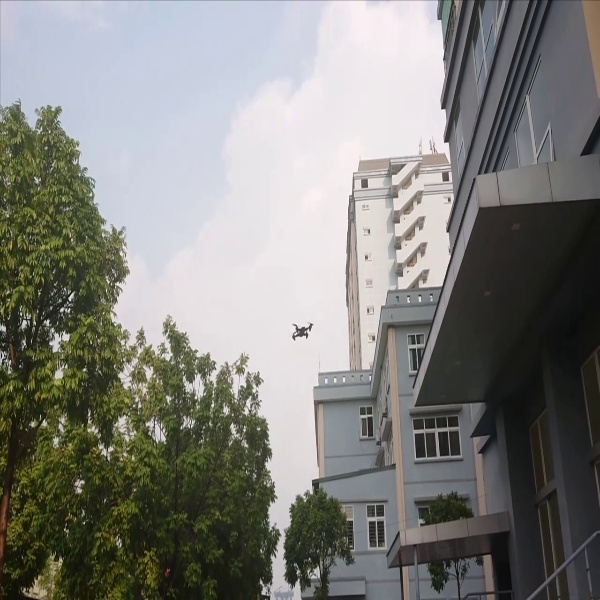drone: (283, 314, 316, 347)
